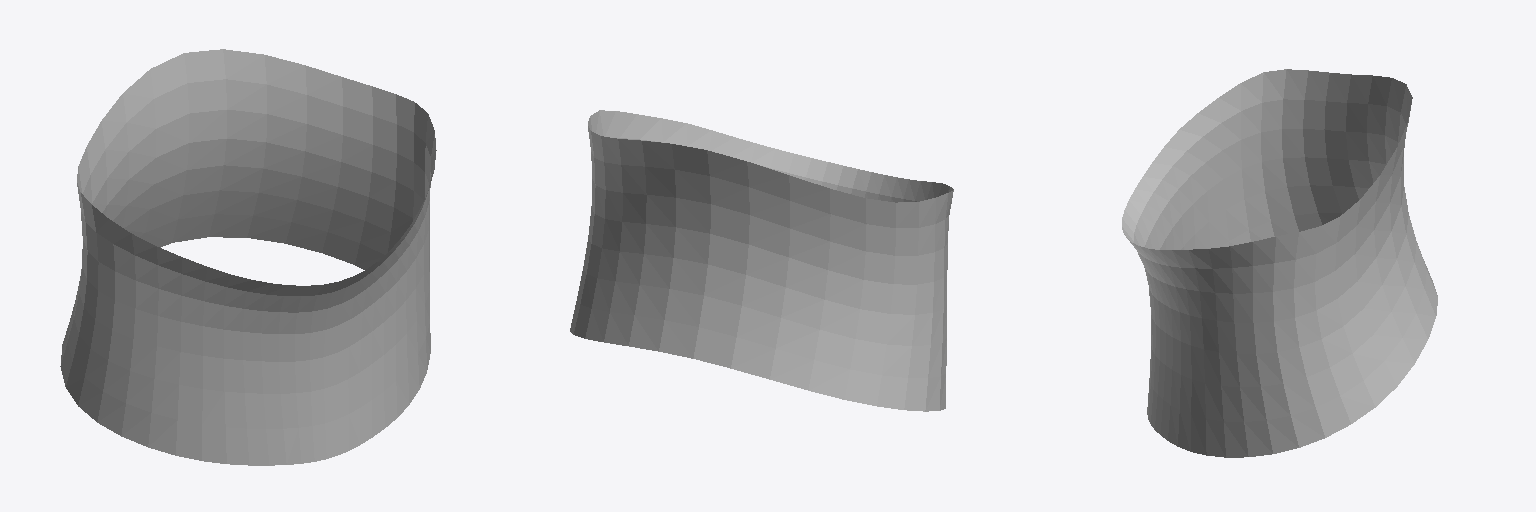
File: luffy_neck.obj
3 renders of one model, left to right at view 1: azimuth 30°, elevation 25°; view 2: azimuth 150°, elevation 25°; view 3: azimuth 270°, elevation 25°, orthographic.
Visible parts, largest first — view 1: neck; view 2: neck; view 3: neck.
Boxes of the visible parts, <box> form: neck: <box>60,49,436,465</box>; neck: <box>570,110,953,411</box>; neck: <box>1122,69,1437,457</box>.
Bounding box in the file's own units: 0.1877 × 0.1599 × 0.1473.